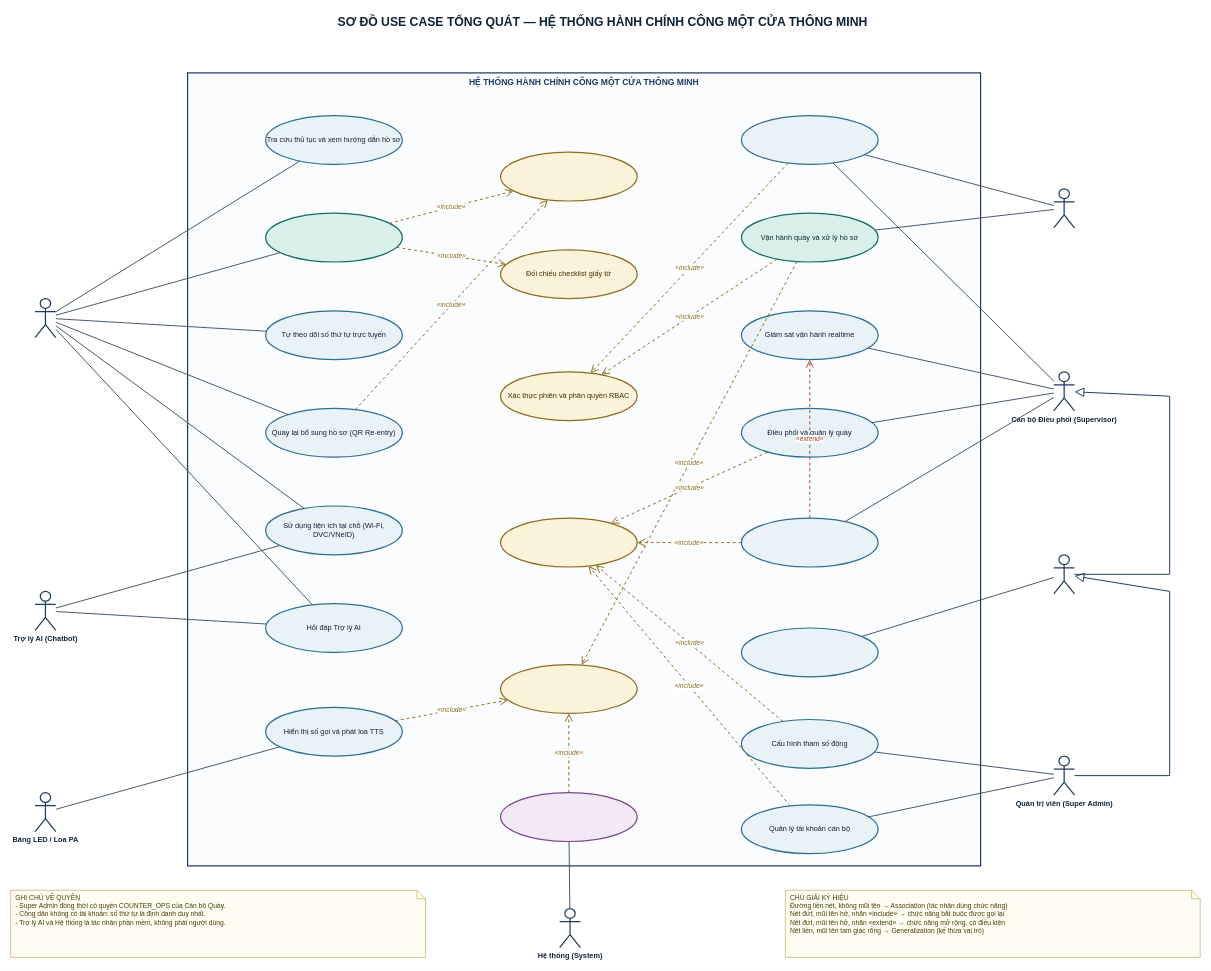
The diagram is 1211 pixels wide and 971 high, and some of its shapes have lost their labels. The shapes that lost their labels are listed below. From the top down, each one's centre as x and y in pixels, then its label:
pixel 809 140: Đăng nhập và Đăng xuất hệ thống
pixel 568 176: Kiểm tra giờ mở cửa Kiosk
pixel 1064 208: Cán bộ Quầy (Officer)
pixel 334 237: Lấy số thứ tự (đăng ký hàng đợi)
pixel 45 318: Công dân
pixel 568 542: Ghi nhật ký Audit Log
pixel 809 542: Can thiệp hàng đợi khẩn cấp (VIP, Skip, Khôi phục)
pixel 1064 574: Trưởng Trung tâm (Manager)
pixel 809 652: Báo cáo, KPI và Nhật ký Audit
pixel 568 689: Phát sự kiện realtime qua WebSocket
pixel 568 817: Tiến trình nền tự động (No-show, Purge, Sweep)
